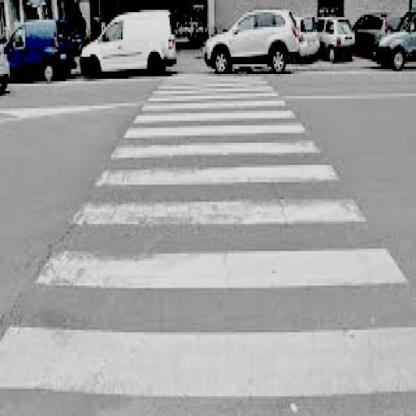crosswalk: (2, 242, 415, 406), (64, 155, 371, 227), (119, 106, 308, 140)
